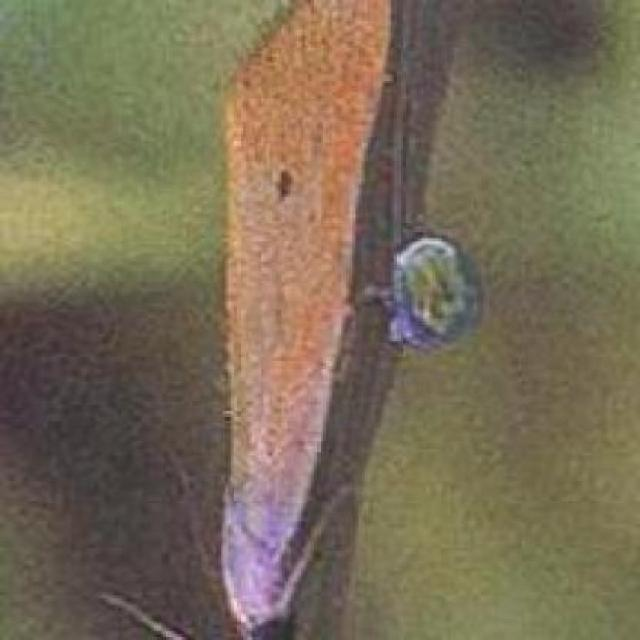stem-borer: (216, 0, 387, 640)
